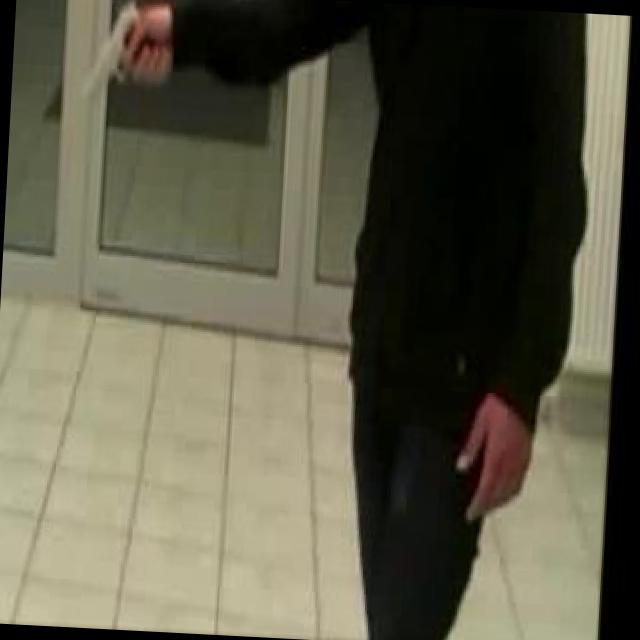Guns: (71, 0, 174, 117)
